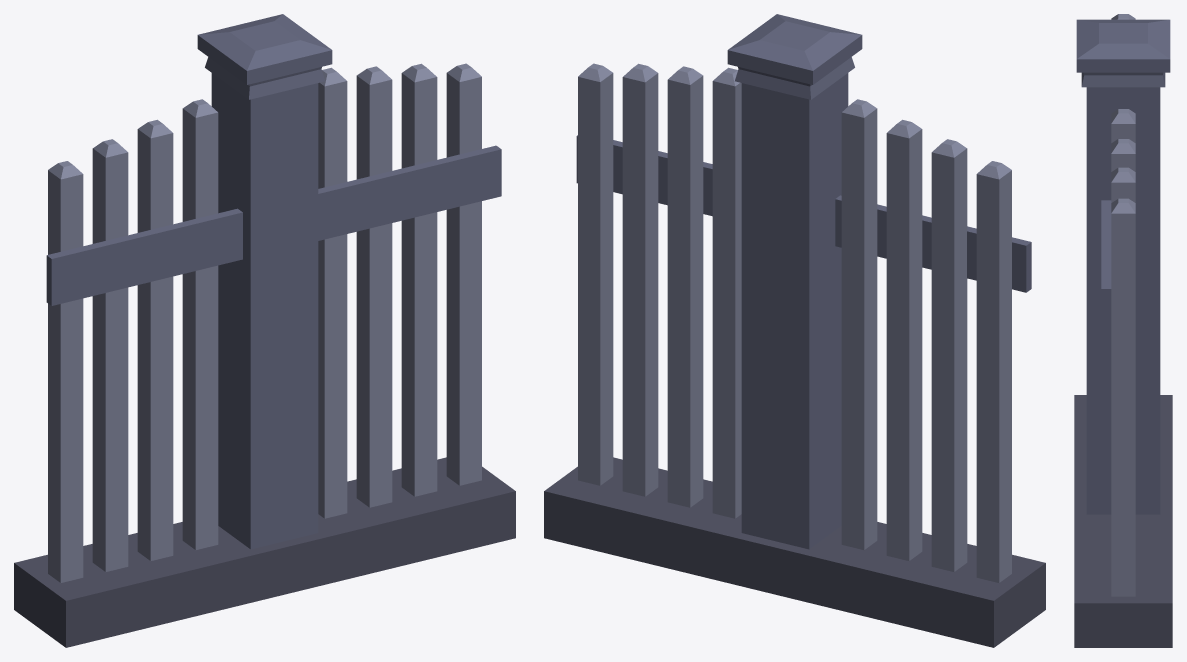
File: Fence_05.fbx
The picture shows the model from 3 angles, left to right: view 1: azimuth 30°, elevation 25°; view 2: azimuth 150°, elevation 25°; view 3: azimuth 270°, elevation 25°; orthographic projection. The views are drawn at different scales.
Visible parts, largest first — view 1: Fence_05; view 2: Fence_05; view 3: Fence_05.
Boxes of the visible parts, bbox=[...] form: Fence_05: bbox=[14, 14, 515, 647]; Fence_05: bbox=[544, 14, 1045, 647]; Fence_05: bbox=[1074, 14, 1172, 647].
Bounding box in the file's own units: 200 × 229 × 40.
